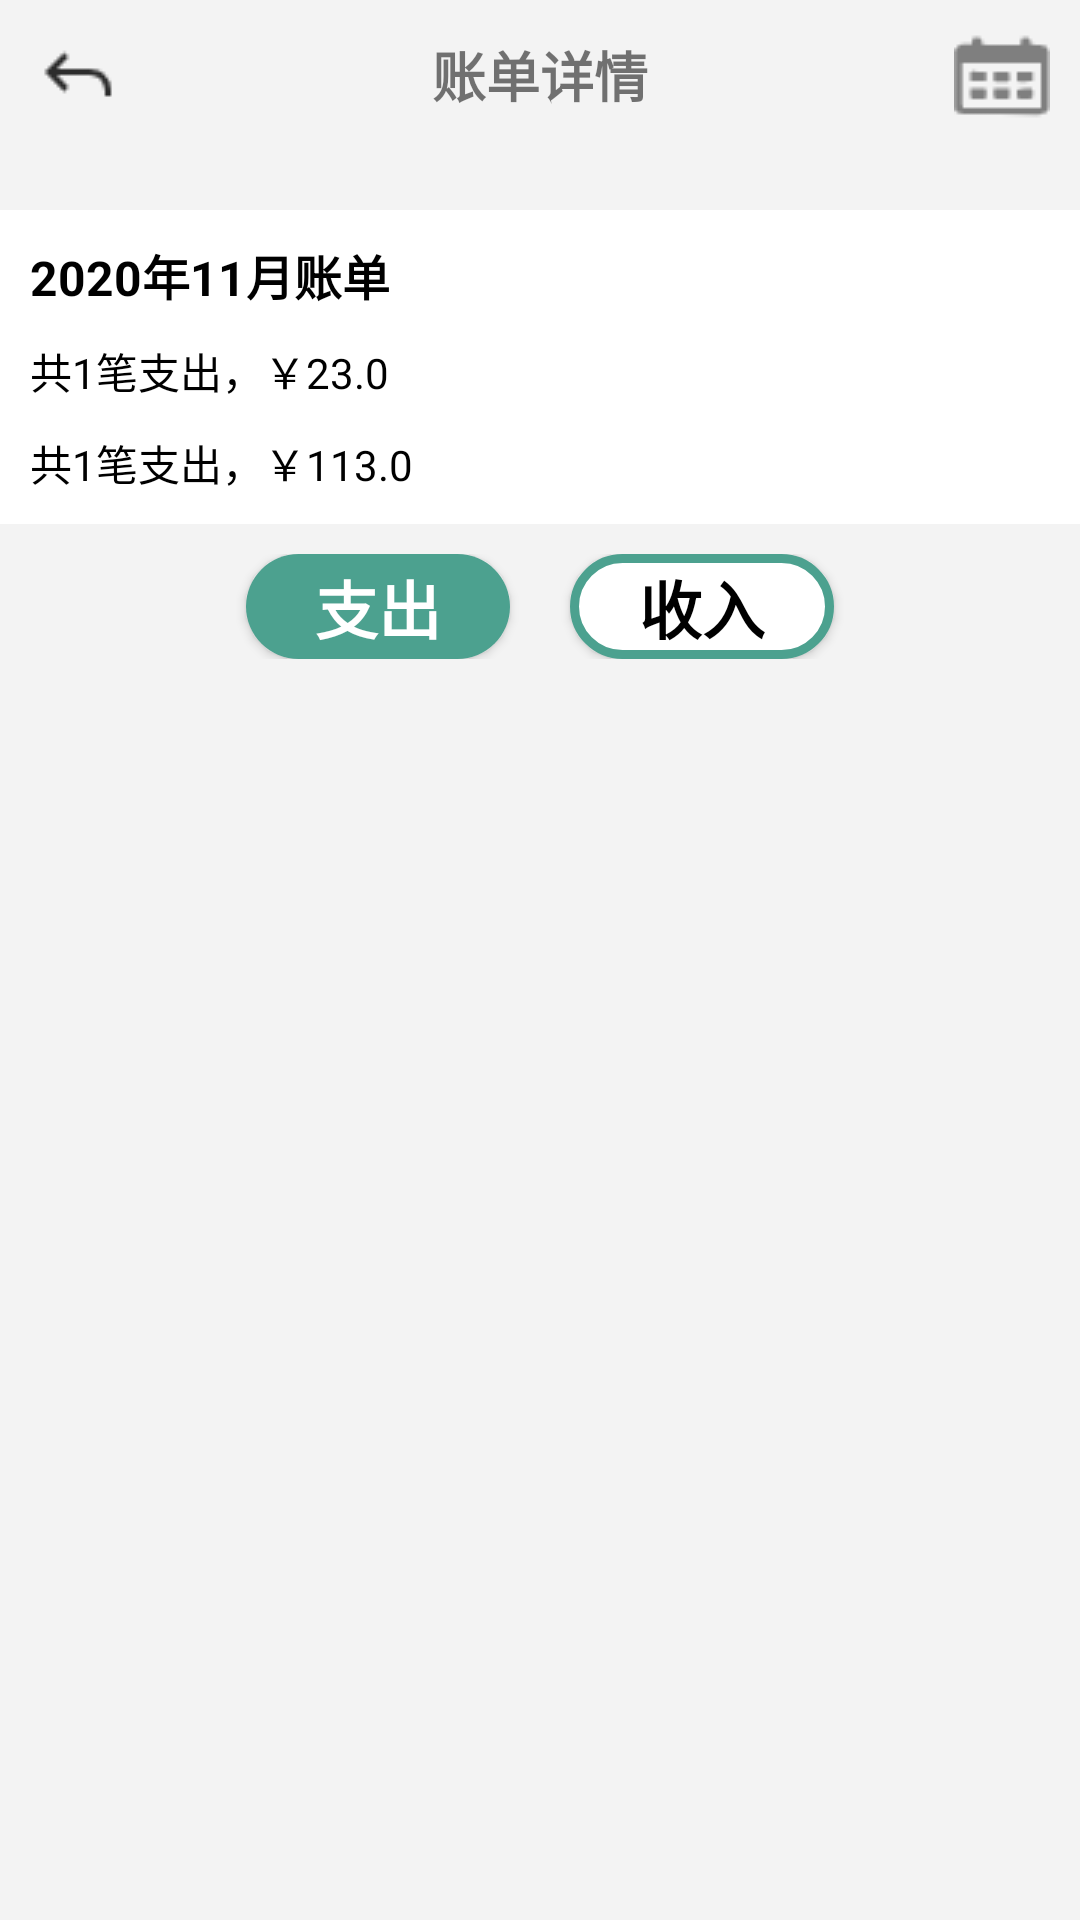

Point at icon controls on the screen. Image size 1080px x 1920px, points as (x=x, y=y).
calender: (x=1002, y=76)
